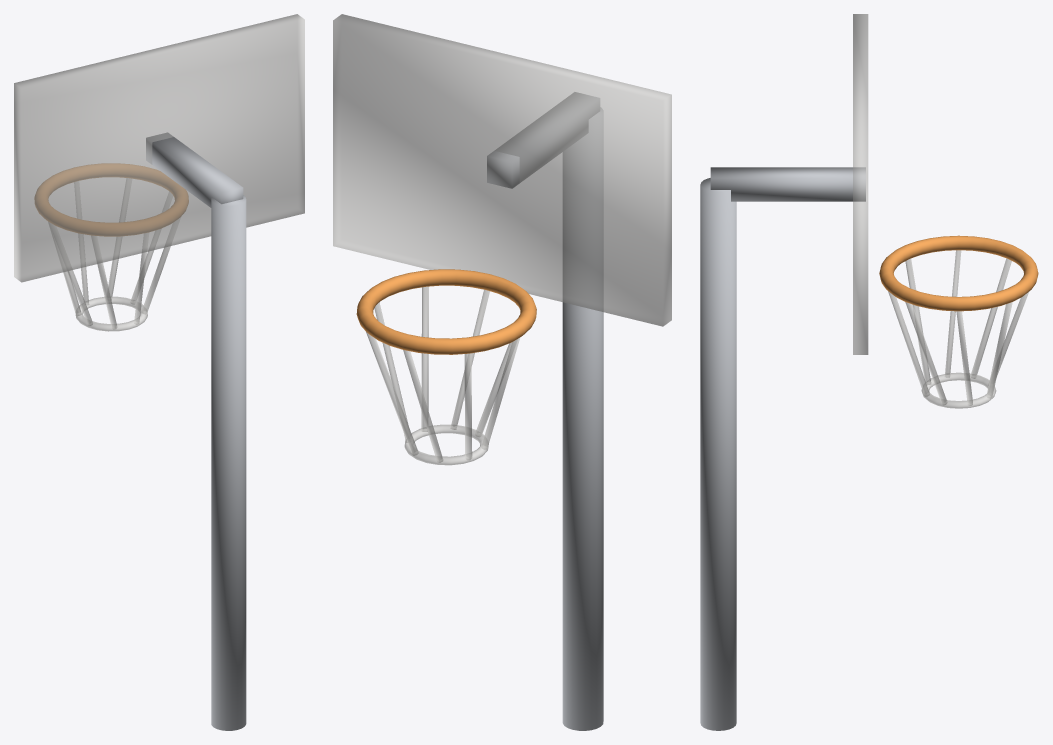
Rendered from hoop.glb.
The picture shows the model from 3 angles, left to right: view 1: azimuth 30°, elevation 25°; view 2: azimuth 150°, elevation 25°; view 3: azimuth 270°, elevation 25°; orthographic projection. The views are drawn at different scales.
Parts seen in each view (by area): view 1: Backboard, Pole, Rim, HoopArm, NetRing, NetCord_4, NetCord_1, NetCord_7, NetCord_5, NetCord_2, NetCord_0, NetCord_6; view 2: Backboard, Pole, Rim, HoopArm, NetRing, NetCord_1, NetCord_7, NetCord_2, NetCord_6, NetCord_4, NetCord_3, NetCord_0 (+1 smaller); view 3: Pole, Backboard, HoopArm, Rim, NetRing, NetCord_3, NetCord_7, NetCord_5, NetCord_6, NetCord_4, NetCord_1, NetCord_0 (+1 smaller).
Boxes of the visible parts, left/top/right/bottom form: Backboard: left=14, top=14, right=304, bottom=282; Pole: left=211, top=195, right=246, bottom=730; Rim: left=34, top=163, right=188, bottom=236; HoopArm: left=146, top=132, right=243, bottom=207; NetRing: left=75, top=296, right=147, bottom=331; NetCord_4: left=49, top=222, right=92, bottom=325; NetCord_1: left=107, top=178, right=131, bottom=299; NetCord_7: left=141, top=218, right=179, bottom=314; NetCord_5: left=91, top=236, right=116, bottom=329; NetCord_2: left=74, top=181, right=88, bottom=304; NetCord_0: left=130, top=192, right=172, bottom=304; NetCord_6: left=134, top=233, right=148, bottom=324; Backboard: left=333, top=14, right=671, bottom=326; Pole: left=562, top=107, right=603, bottom=730; Rim: left=356, top=269, right=536, bottom=354; HoopArm: left=487, top=92, right=599, bottom=188; NetRing: left=404, top=424, right=488, bottom=465; NetCord_1: left=366, top=332, right=418, bottom=455; NetCord_7: left=421, top=286, right=428, bottom=431; NetCord_2: left=403, top=350, right=442, bottom=462; NetCord_6: left=450, top=289, right=489, bottom=429; NetCord_4: left=481, top=337, right=520, bottom=449; NetCord_3: left=464, top=353, right=472, bottom=459; NetCord_0: left=374, top=302, right=410, bottom=442; Pole: left=700, top=178, right=736, bottom=730; Backboard: left=853, top=14, right=868, bottom=354; HoopArm: left=710, top=167, right=865, bottom=201; Rim: left=879, top=235, right=1038, bottom=311; NetRing: left=921, top=372, right=996, bottom=408; NetCord_3: left=970, top=258, right=1011, bottom=378; NetCord_7: left=905, top=302, right=947, bottom=404; NetCord_5: left=905, top=258, right=930, bottom=384; NetCord_6: left=888, top=291, right=929, bottom=396; NetCord_4: left=945, top=250, right=961, bottom=377; NetCord_1: left=986, top=302, right=1012, bottom=398; NetCord_0: left=956, top=311, right=972, bottom=405.
Size of the model in its own units: 1.3 by 2.72 by 1.31.
